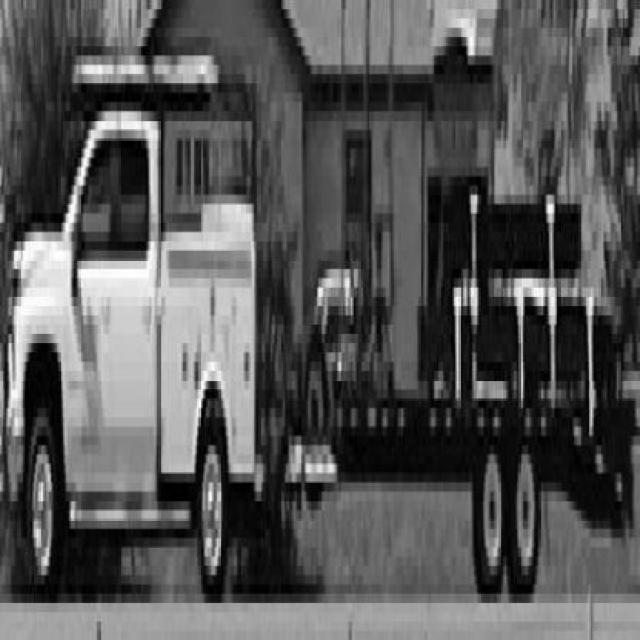Pickup- Utility: (1, 51, 264, 597)
Trailer: (287, 398, 632, 603)
